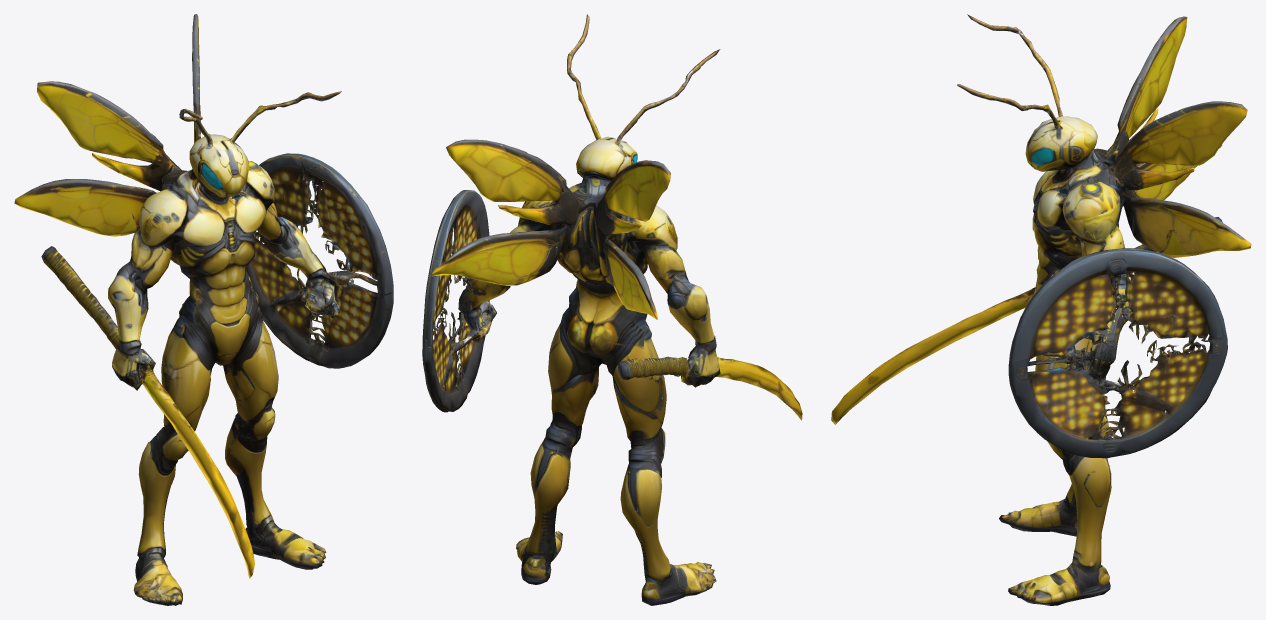
The model's file is wasp3D.glb.
3 renders of one model, left to right at view 1: azimuth 30°, elevation 25°; view 2: azimuth 150°, elevation 25°; view 3: azimuth 270°, elevation 25°, orthographic. The views are drawn at different scales.
Size of the model in its own units: 1.15 by 2 by 1.47.
Materials: 1 (1 with a texture image).
